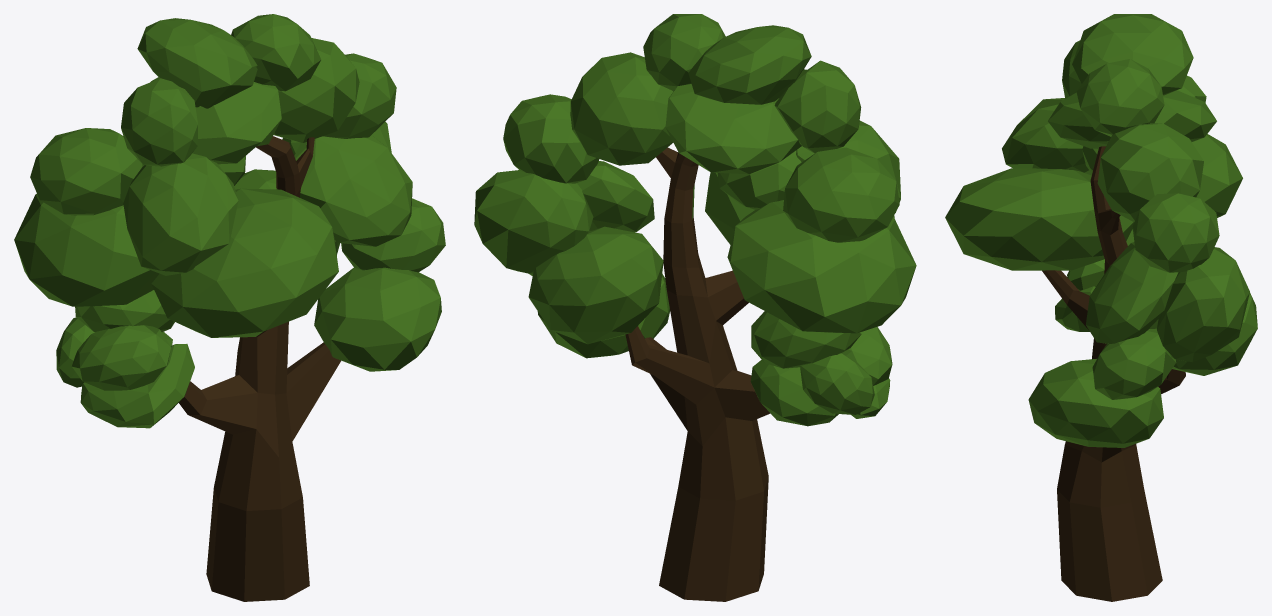
File: tree.obj
3 renders of one model, left to right at view 1: azimuth 30°, elevation 25°; view 2: azimuth 150°, elevation 25°; view 3: azimuth 270°, elevation 25°, orthographic. The views are drawn at different scales.
Visible parts, largest first — view 1: Oak_Cylinder.004; view 2: Oak_Cylinder.004; view 3: Oak_Cylinder.004.
Part boxes in pixels (x1,y1,x2,y2): Oak_Cylinder.004: [14, 14, 445, 601]; Oak_Cylinder.004: [474, 14, 916, 601]; Oak_Cylinder.004: [945, 14, 1257, 601].
Size of the model in its own units: 20.3 by 27.26 by 14.55.
